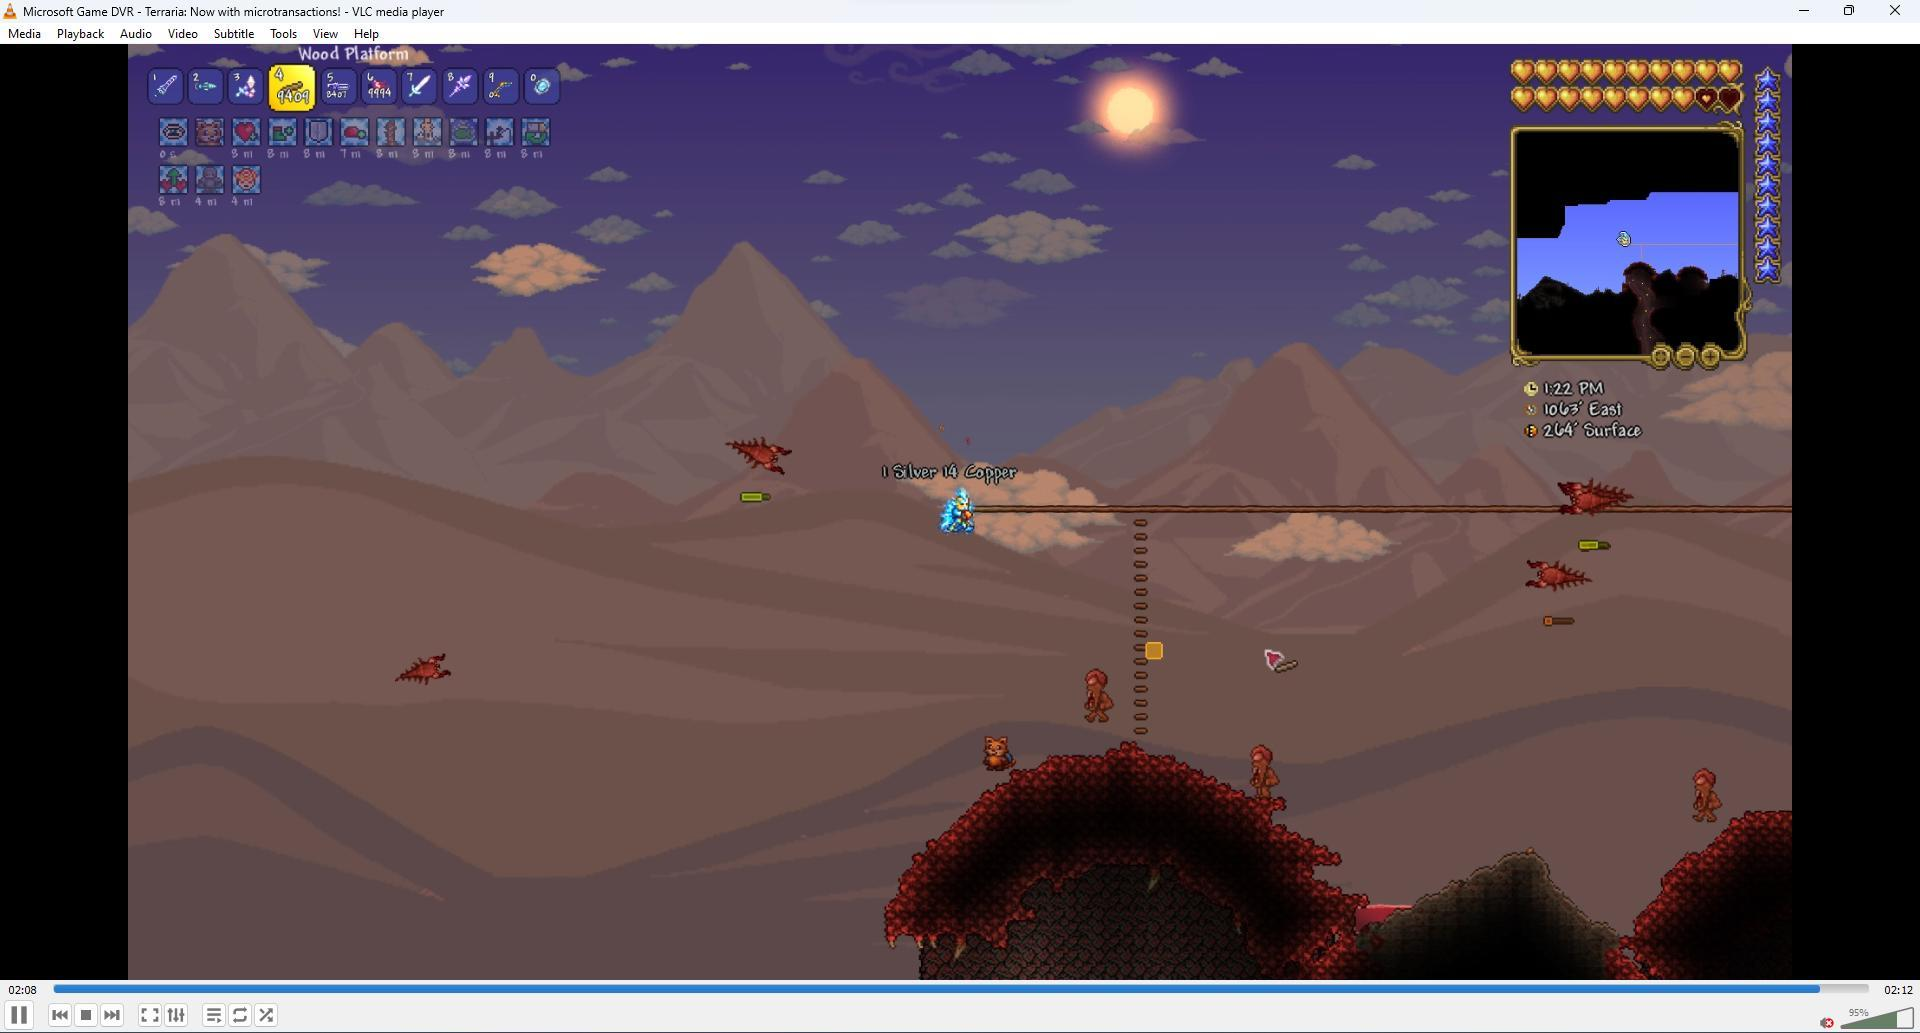crimera: (721, 429, 795, 480), (389, 642, 459, 687)
zombie: (1550, 473, 1631, 527), (1677, 761, 1728, 829), (1525, 551, 1594, 594), (1078, 658, 1118, 729), (1242, 740, 1283, 803)
